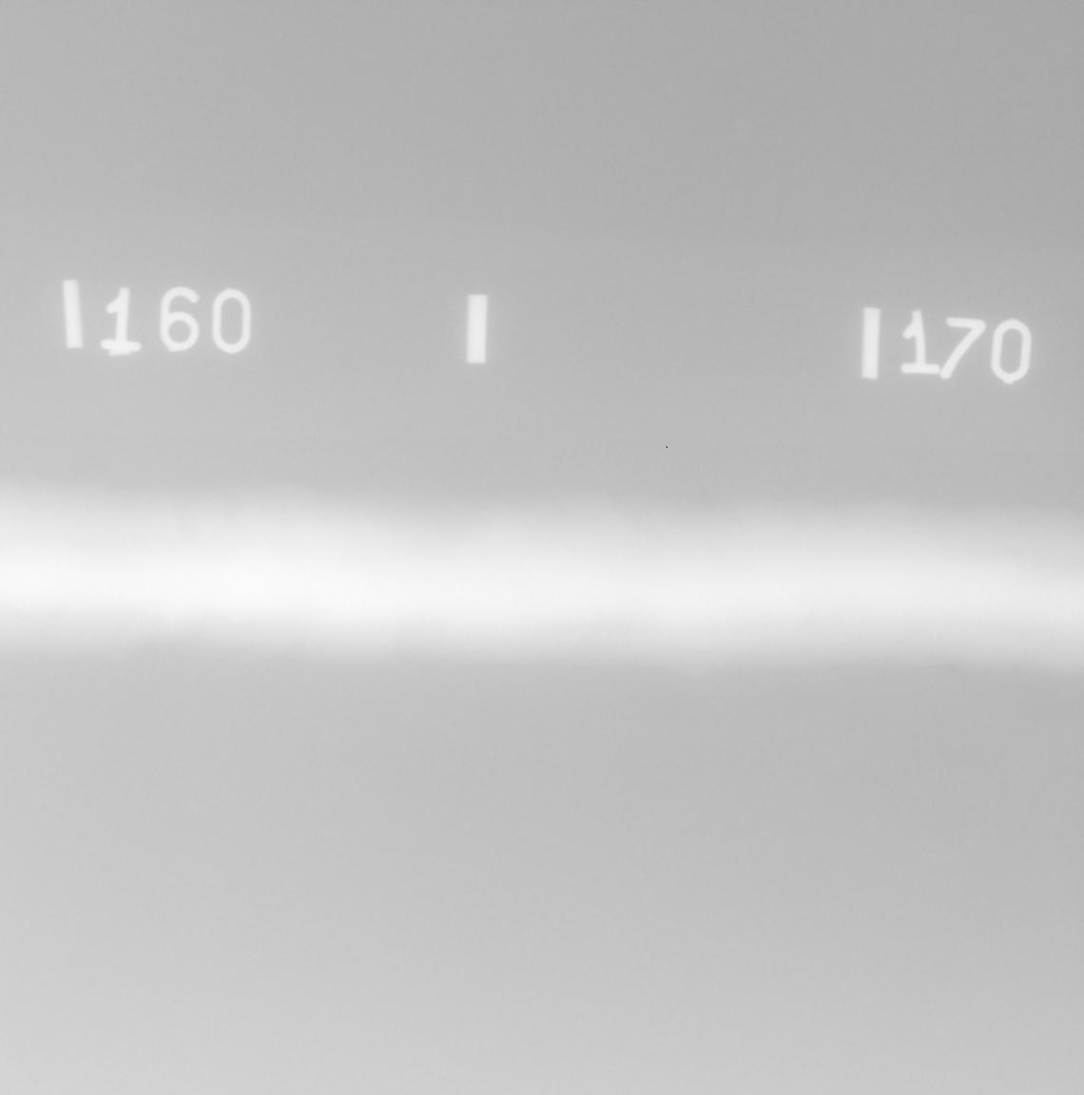Pore/Porosity: (377, 587, 385, 593)
